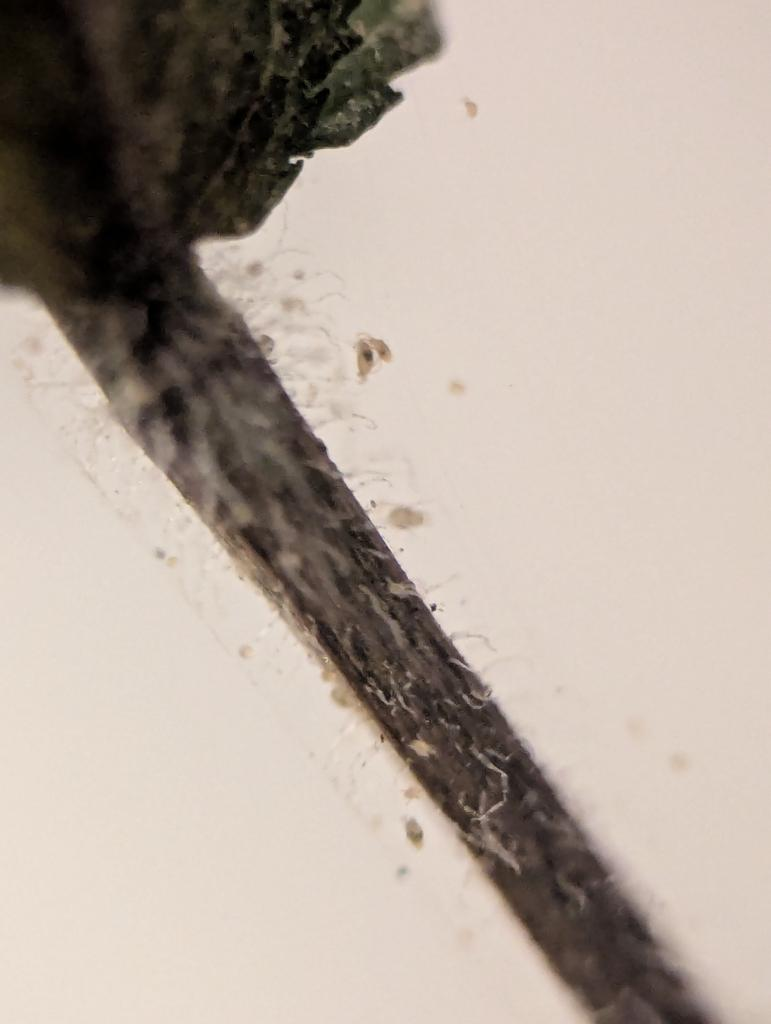tiny_pests: (347, 318, 401, 385)
